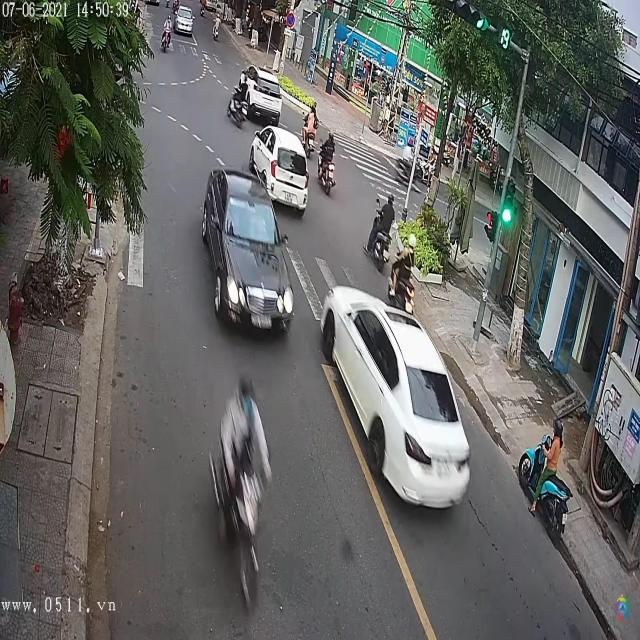car: (317, 284, 473, 509), (199, 169, 294, 330), (251, 124, 311, 215), (233, 67, 284, 129), (175, 4, 195, 36)
motorcycle: (517, 432, 572, 538), (370, 192, 393, 276), (316, 143, 336, 194), (161, 24, 172, 55)
